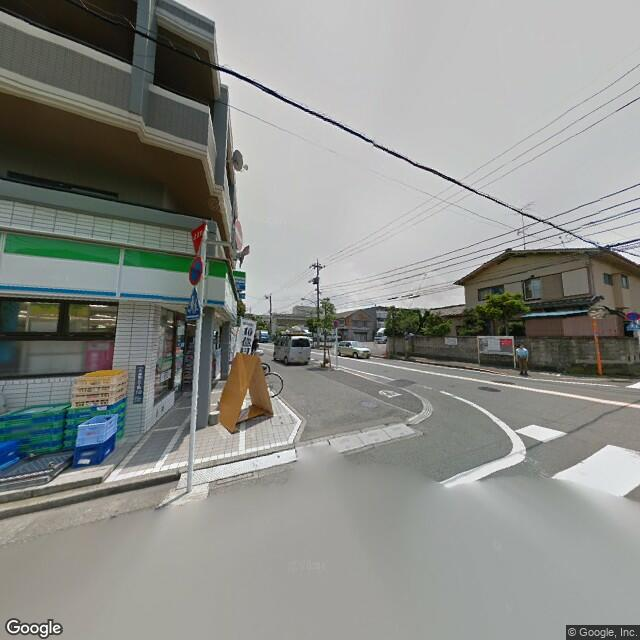family_mart: (2, 228, 223, 311), (227, 265, 248, 294)
